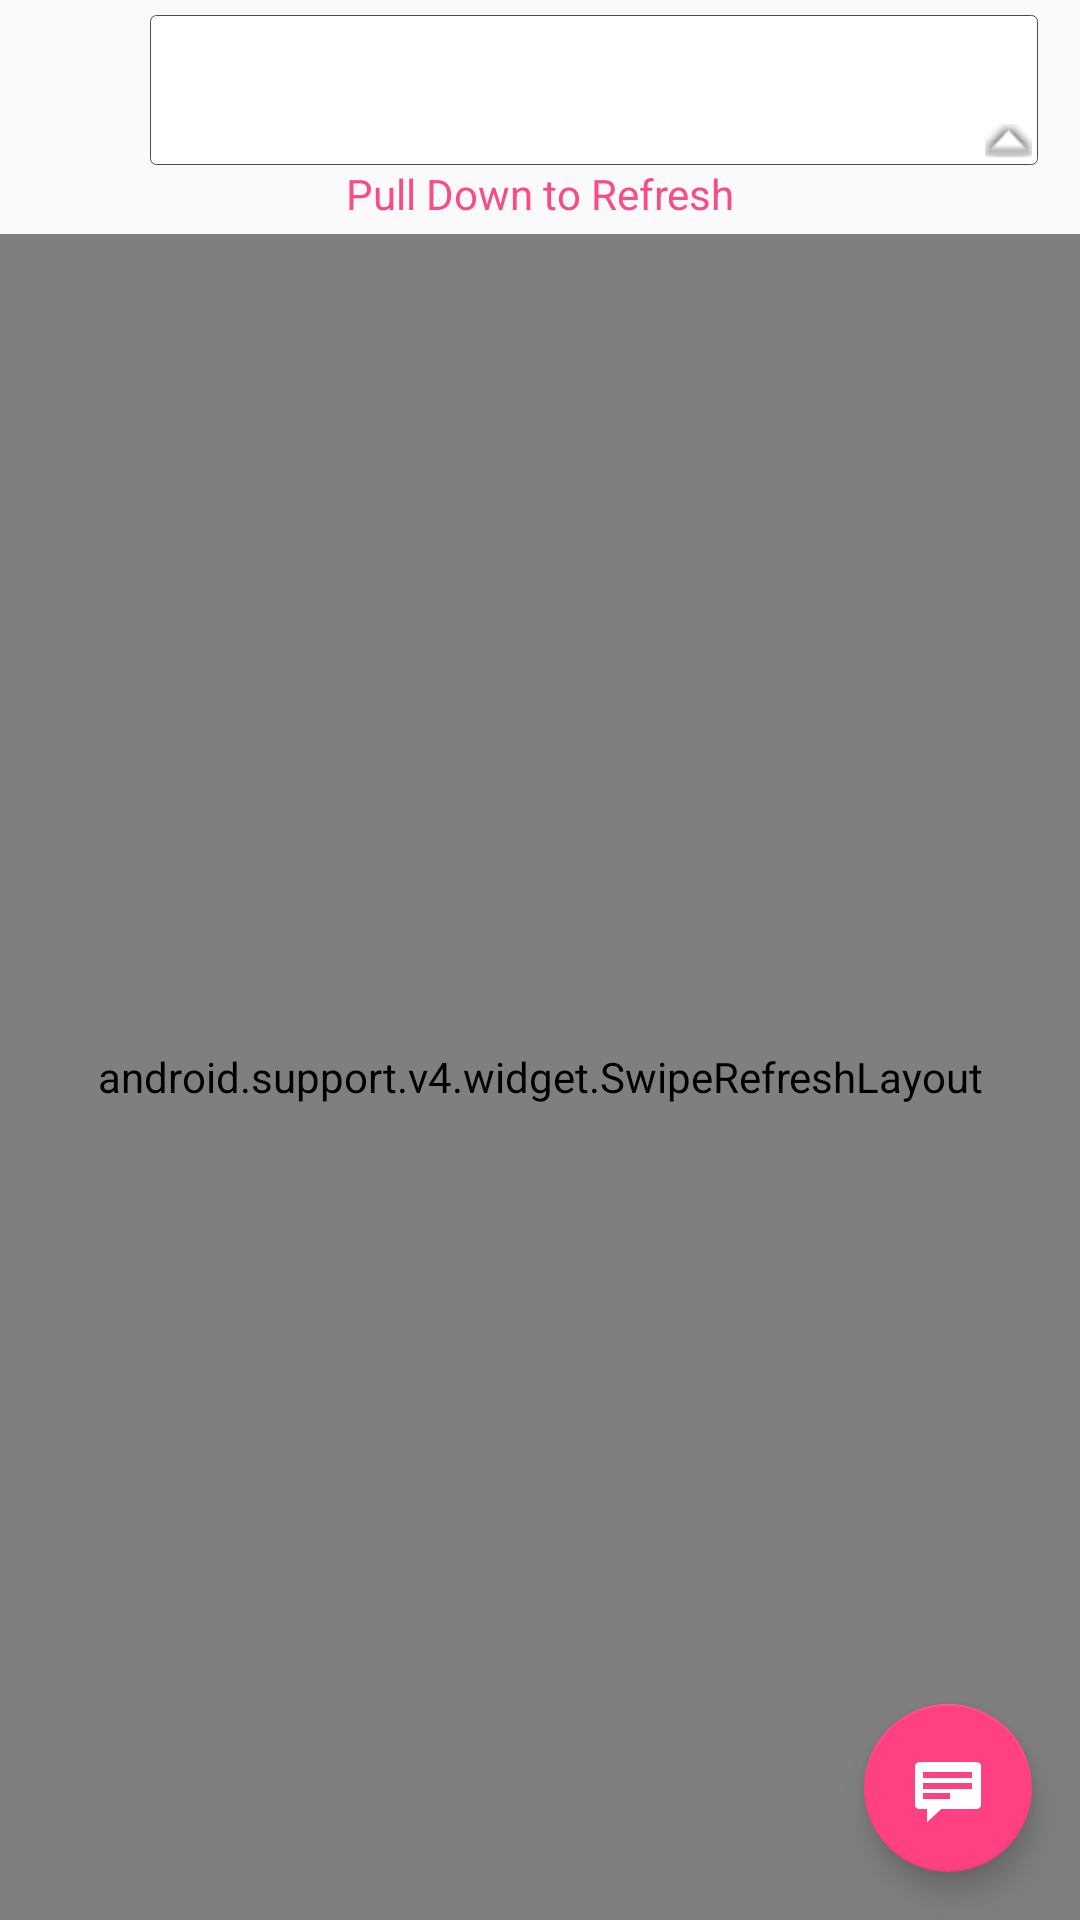

Icons on this 1080px x 1920px Android screen, each with the point to tap as point (x, y):
chat: point (948, 1788)
